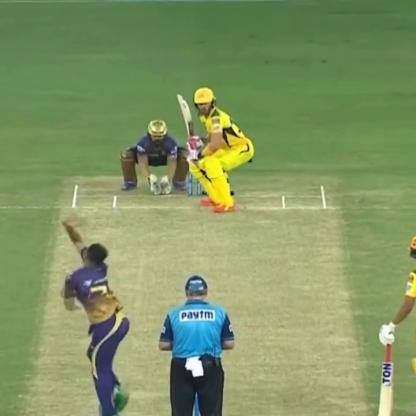bat: (174, 90, 198, 150)
pitch: (25, 166, 371, 416)
